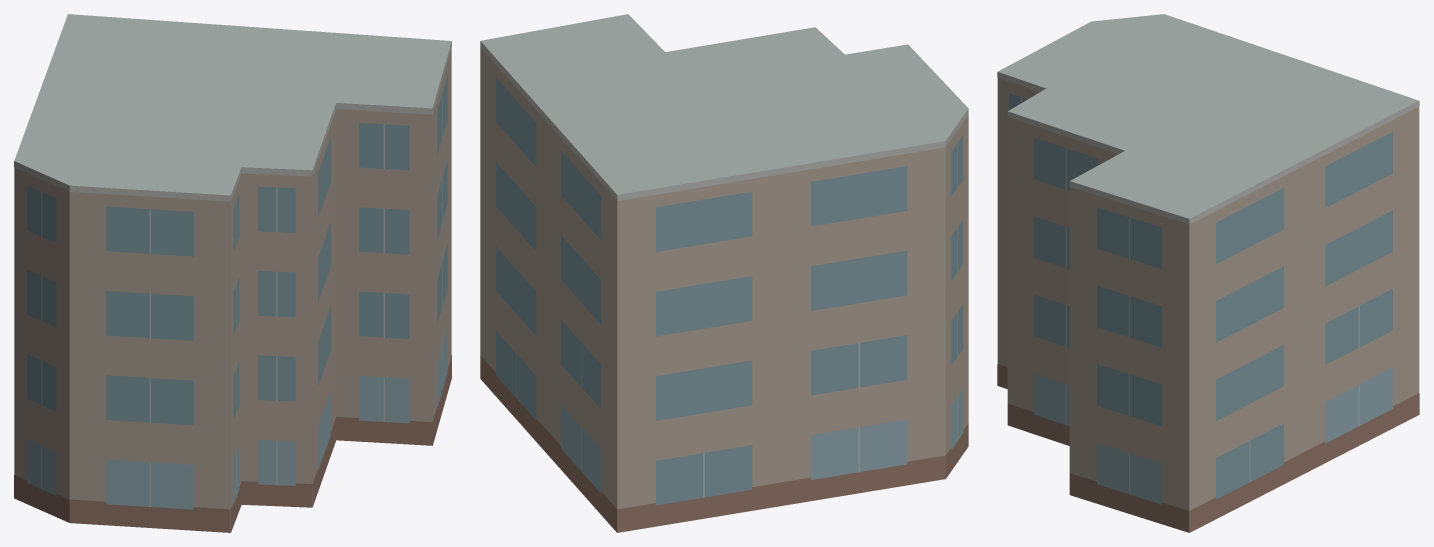
File: survey-upis-32867581.glb
The picture shows the model from 3 angles, left to right: view 1: azimuth 30°, elevation 25°; view 2: azimuth 150°, elevation 25°; view 3: azimuth 270°, elevation 25°; orthographic projection. The views are drawn at different scales.
Parts seen in each view (by area): view 1: survey-upis-32867581.tmp; view 2: survey-upis-32867581.tmp; view 3: survey-upis-32867581.tmp.
Part boxes in pixels (box(x1,y1,x2,y2)): survey-upis-32867581.tmp: box(14, 14, 451, 532); survey-upis-32867581.tmp: box(480, 14, 968, 532); survey-upis-32867581.tmp: box(997, 14, 1419, 532).
Bounding box in the file's own units: 18.59 × 13.28 × 16.18.
